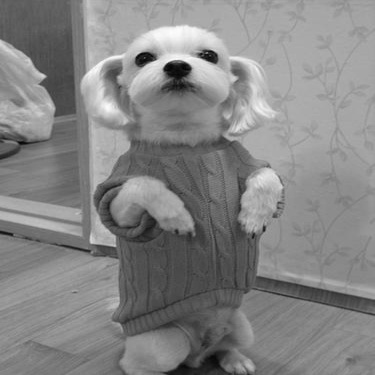dog: (65, 21, 288, 374)
